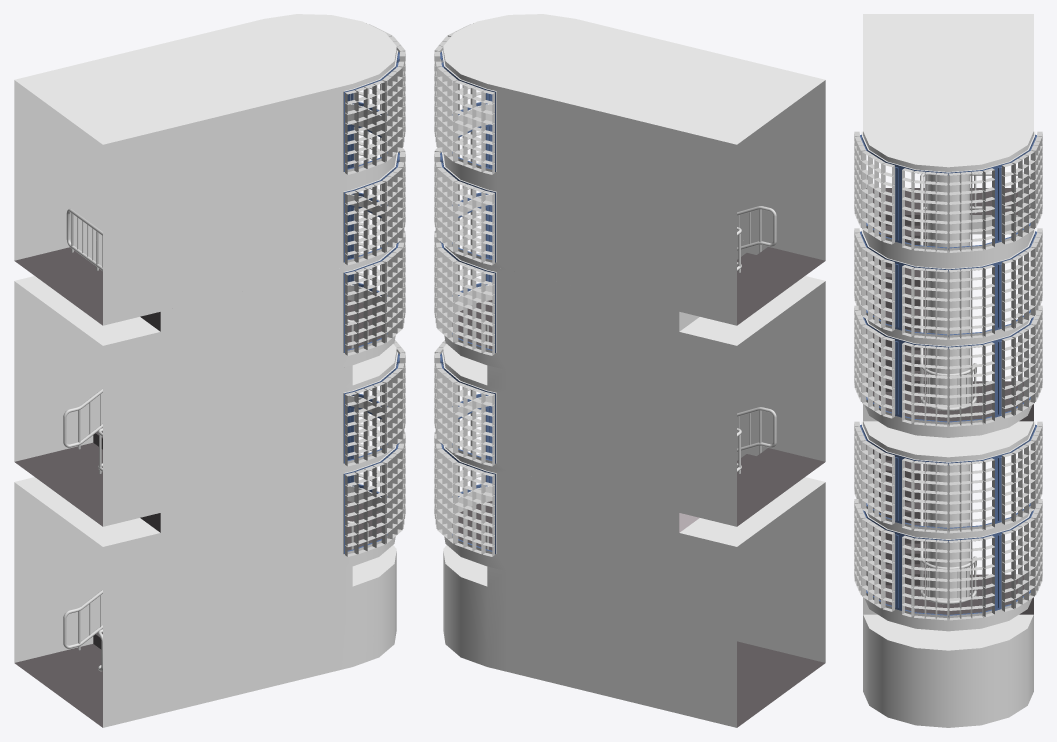
File: Arch_Stairwell_001.fbx
The picture shows the model from 3 angles, left to right: view 1: azimuth 30°, elevation 25°; view 2: azimuth 150°, elevation 25°; view 3: azimuth 270°, elevation 25°; orthographic projection. The views are drawn at different scales.
Parts seen in each view (by area): view 1: Stairwell_Top_Interior, Stairwell_Bottom_Interior, Stairwell_Middle_Interior, Stairwell_Middle_Windows, Stairwell_Top__Windows, Stairwell_Bottom_Windows, Stairwell_Top_Rail, Stairwell_Middle_Rail, Stairwell_Bottom_Rail; view 2: Stairwell_Top_Interior, Stairwell_Bottom_Interior, Stairwell_Middle_Interior, Stairwell_Middle_Windows, Stairwell_Top__Windows, Stairwell_Bottom_Windows, Stairwell_Middle_Rail, Stairwell_Bottom_Rail; view 3: Stairwell_Top_Interior, Stairwell_Bottom_Interior, Stairwell_Top__Windows, Stairwell_Middle_Windows, Stairwell_Middle_Interior, Stairwell_Bottom_Windows, Stairwell_Middle_Stairs, Stairwell_Bottom_Stairs, Stairwell_Middle_Rail, Stairwell_Bottom_Rail, Stairwell_Top_Rail.
Part boxes in pixels (x1,y1,x2,y2): Stairwell_Top_Interior: [14, 14, 399, 325]; Stairwell_Bottom_Interior: [14, 400, 399, 727]; Stairwell_Middle_Interior: [14, 199, 399, 526]; Stairwell_Middle_Windows: [345, 208, 405, 466]; Stairwell_Top__Windows: [345, 23, 405, 265]; Stairwell_Bottom_Windows: [345, 409, 405, 556]; Stairwell_Top_Rail: [66, 208, 102, 270]; Stairwell_Middle_Rail: [63, 319, 368, 473]; Stairwell_Bottom_Rail: [63, 520, 368, 671]; Stairwell_Top_Interior: [440, 14, 825, 325]; Stairwell_Bottom_Interior: [440, 400, 825, 727]; Stairwell_Middle_Interior: [440, 199, 825, 526]; Stairwell_Middle_Windows: [434, 208, 494, 466]; Stairwell_Top__Windows: [434, 23, 494, 265]; Stairwell_Bottom_Windows: [434, 409, 494, 556]; Stairwell_Middle_Rail: [471, 206, 776, 473]; Stairwell_Bottom_Rail: [471, 407, 776, 549]; Stairwell_Top_Interior: [860, 14, 1036, 341]; Stairwell_Bottom_Interior: [863, 381, 1033, 727]; Stairwell_Top__Windows: [854, 131, 1042, 339]; Stairwell_Middle_Windows: [854, 305, 1042, 533]; Stairwell_Middle_Interior: [860, 188, 1036, 534]; Stairwell_Bottom_Windows: [854, 499, 1042, 620]; Stairwell_Middle_Stairs: [866, 225, 926, 401]; Stairwell_Bottom_Stairs: [866, 445, 926, 595]; Stairwell_Middle_Rail: [866, 174, 1030, 410]; Stairwell_Bottom_Rail: [866, 445, 1030, 604]; Stairwell_Top_Rail: [926, 172, 1030, 213].
Bounding box in the file's own units: 870 × 1450 × 441.
